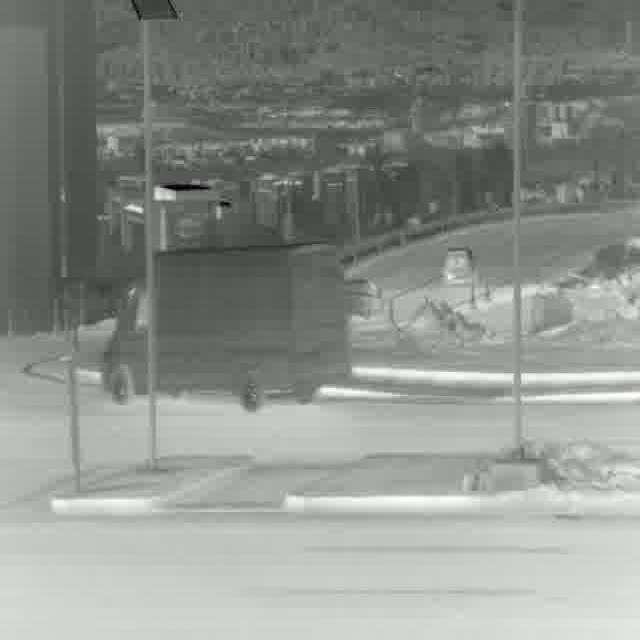Car: (98, 242, 350, 406), (444, 243, 474, 282)
